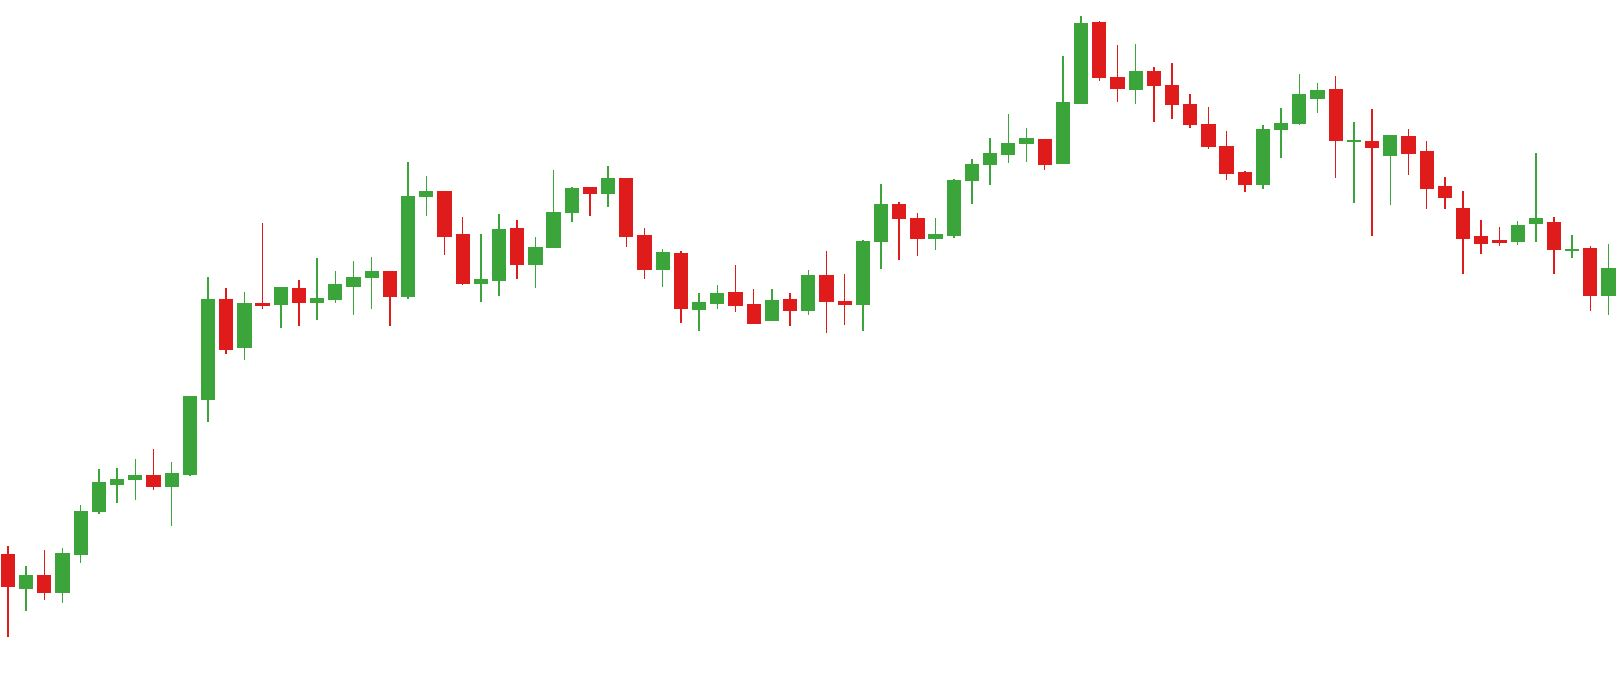sell: (259, 162, 454, 272)
